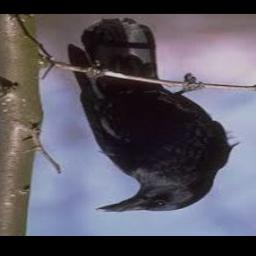Crow: (68, 18, 239, 213)
